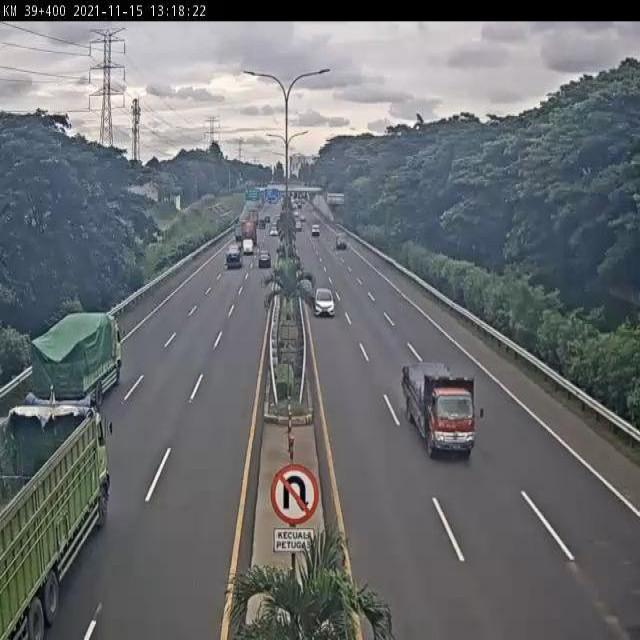car: (312, 285, 336, 319)
truck-l-: (0, 400, 112, 640)
truck-m-: (32, 310, 125, 410), (402, 362, 477, 458)
